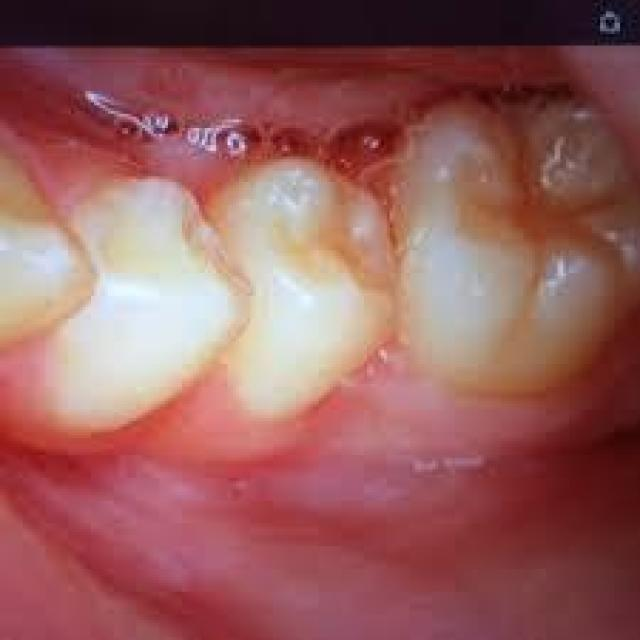Tooth: (373, 77, 637, 395), (46, 171, 250, 435), (208, 159, 404, 415)
